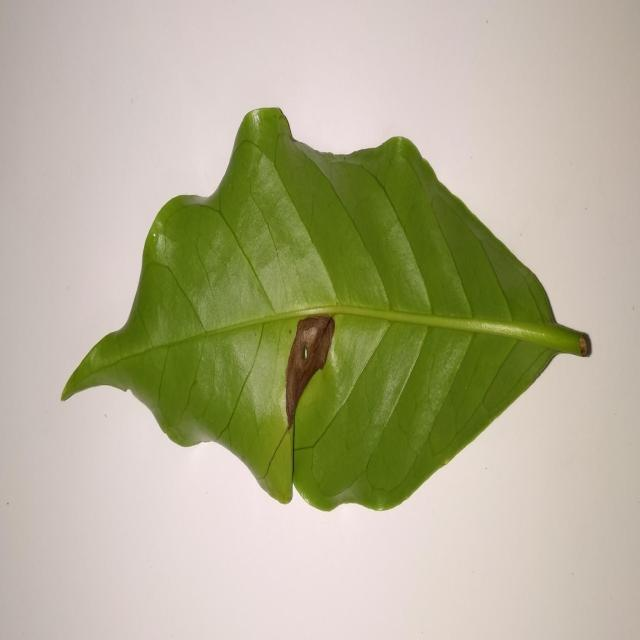Enfermedad-Antracnosis: (61, 108, 593, 515)
